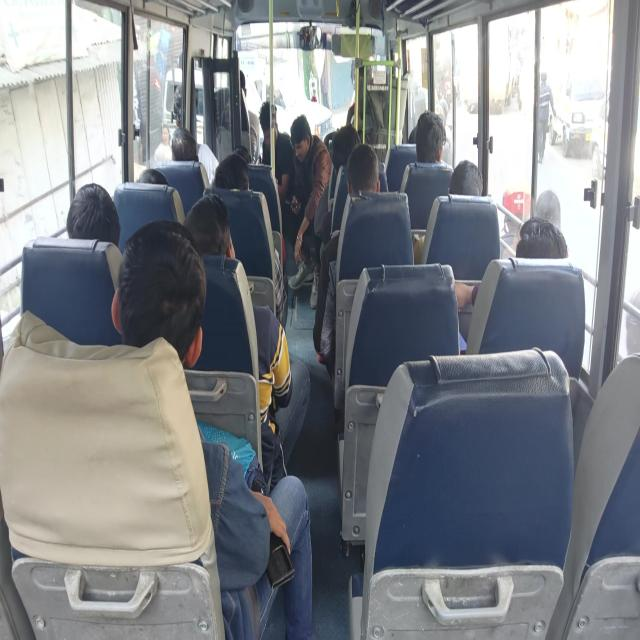person: (111, 218, 314, 638), (182, 192, 311, 491), (313, 143, 380, 375), (454, 216, 568, 352), (210, 152, 288, 329), (309, 124, 361, 308), (285, 113, 332, 304), (413, 159, 483, 263), (66, 182, 121, 247), (183, 192, 235, 259), (170, 126, 220, 186), (514, 217, 568, 259), (536, 71, 556, 163), (415, 110, 447, 165), (331, 123, 361, 173), (212, 153, 250, 191), (449, 159, 483, 196), (534, 189, 560, 230), (154, 125, 172, 163), (138, 168, 168, 185)
